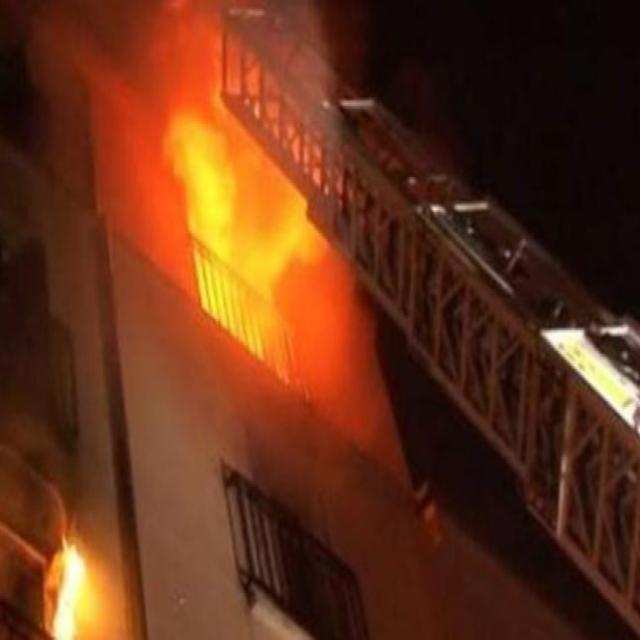fire: (50, 532, 91, 638)
